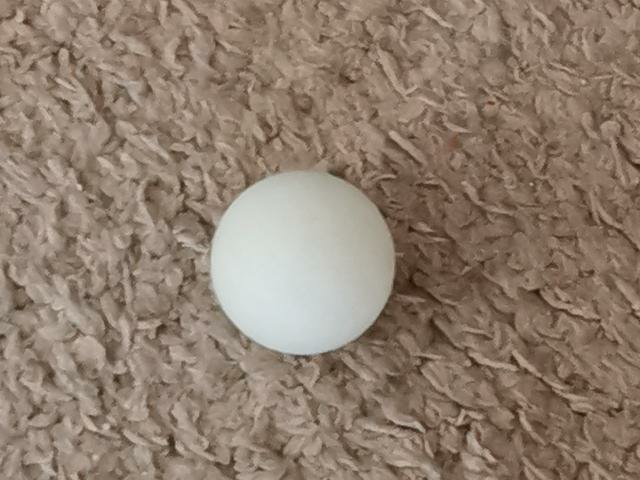ball: (210, 169, 396, 357)
